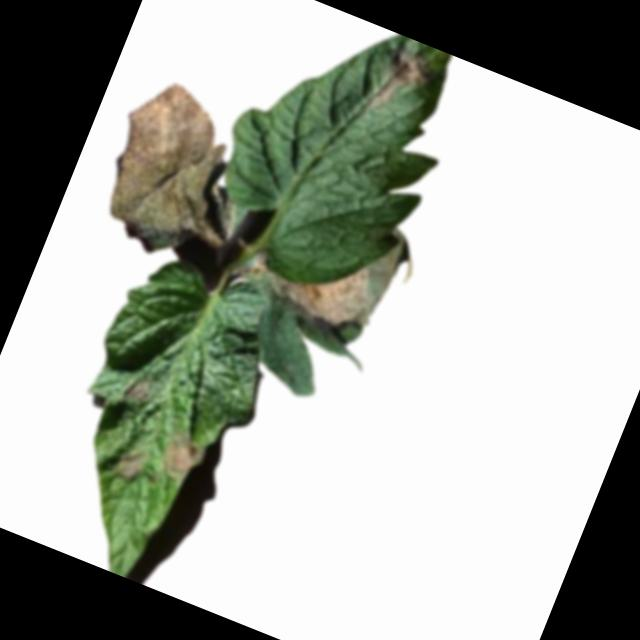Late_blight: (86, 72, 248, 265), (231, 226, 391, 343), (362, 42, 439, 127), (155, 429, 207, 487), (111, 447, 147, 485), (119, 377, 154, 412)
